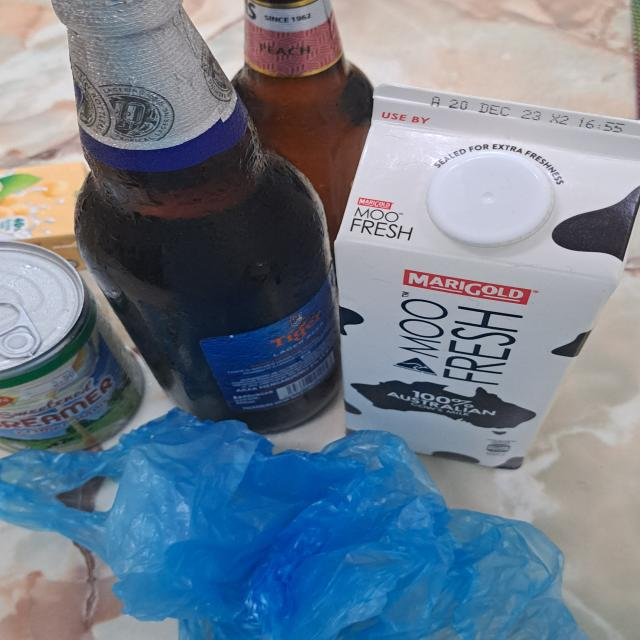can: (0, 236, 148, 453)
drink carton: (331, 77, 619, 476), (0, 154, 111, 268)
glass bottle: (43, 0, 336, 432), (230, 0, 392, 247)
plastic bag: (5, 409, 587, 640)
pop tab: (0, 297, 47, 363)
